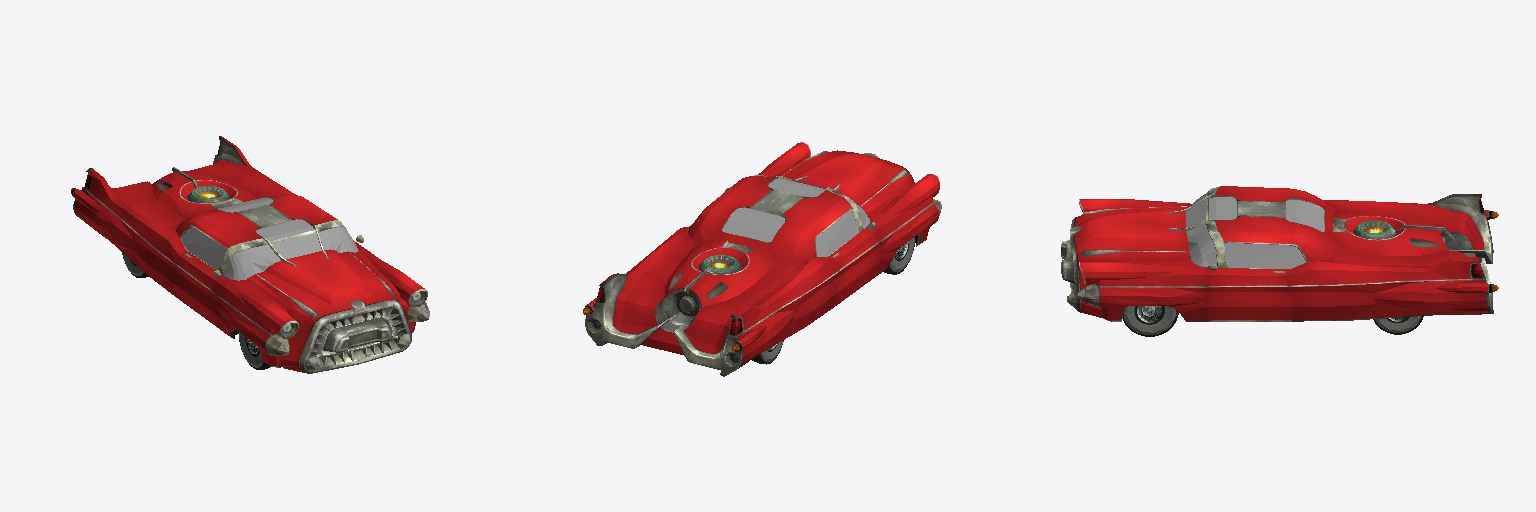
The picture shows the model from 3 angles: view 1: azimuth 30°, elevation 25°; view 2: azimuth 150°, elevation 25°; view 3: azimuth 270°, elevation 25°; orthographic projection.
Visible parts, largest first — view 1: Pinioncarbody, Pinioncarglass, Pinioncartires; view 2: Pinioncarbody, Pinioncarglass, Pinioncartires; view 3: Pinioncarbody, Pinioncarglass, Pinioncartires.
Boxes of the visible parts, box(x1,y1,x2,y2) form: Pinioncarbody: box(71, 136, 429, 373); Pinioncarglass: box(181, 198, 358, 280); Pinioncartires: box(122, 253, 270, 369); Pinioncarbody: box(583, 142, 941, 376); Pinioncarglass: box(723, 178, 870, 256); Pinioncartires: box(752, 237, 914, 364); Pinioncarbody: box(1061, 186, 1498, 321); Pinioncarglass: box(1186, 191, 1323, 268); Pinioncartires: box(1123, 306, 1423, 336).
Bounding box in the file's own units: 6.03 × 3.47 × 14.12.
Materials: 6 (5 with a texture image).